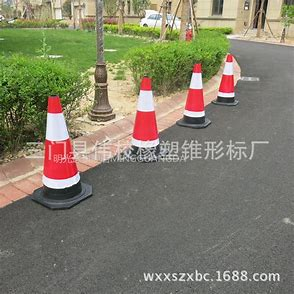traffic_cone: (24, 96, 94, 212), (110, 70, 169, 169), (172, 49, 214, 139), (214, 41, 249, 119)
